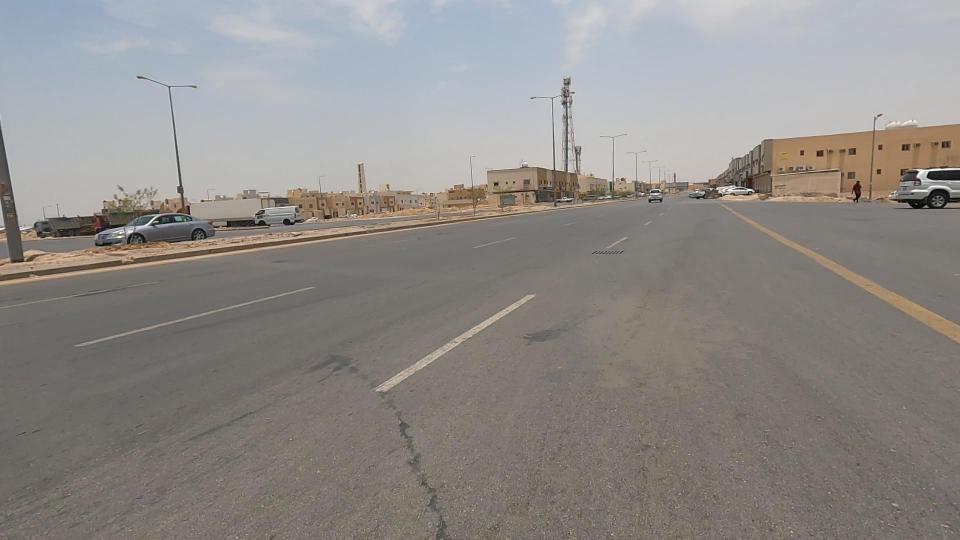CLUTTER_SIDEWALK: (27, 215, 226, 281), (158, 221, 404, 249), (313, 207, 483, 235)
